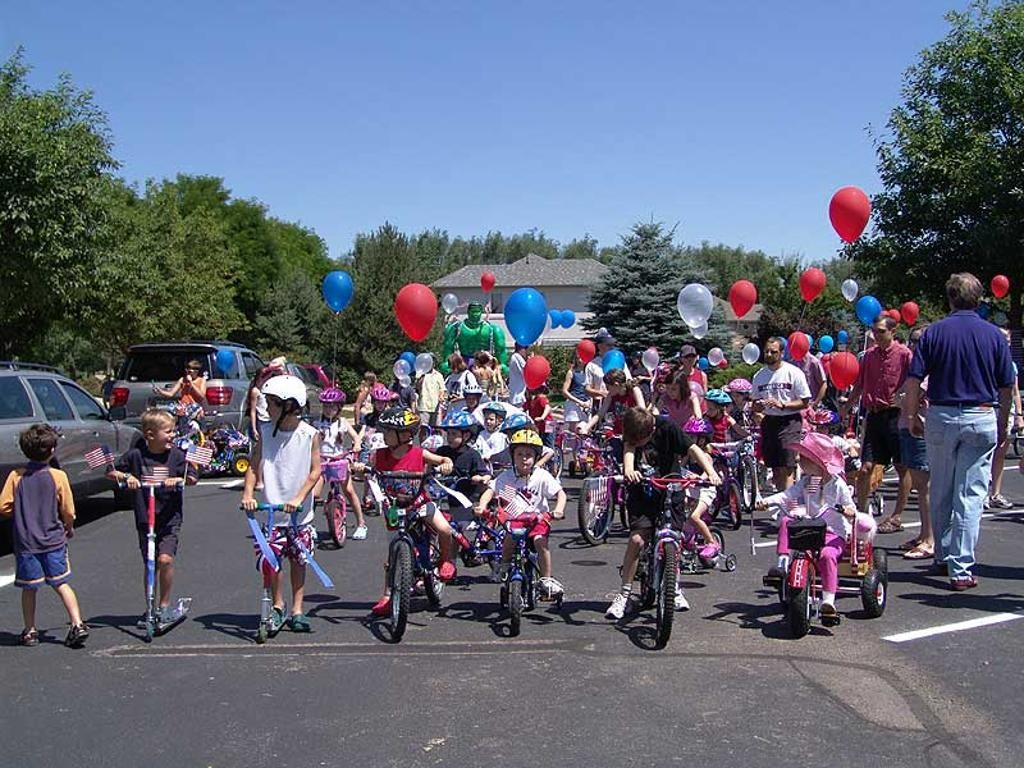human_face: (266, 392, 286, 424), (154, 422, 176, 448), (799, 451, 821, 475), (514, 445, 534, 471), (630, 426, 652, 446), (383, 424, 403, 444), (446, 424, 464, 446), (873, 321, 889, 343), (764, 342, 780, 362), (910, 332, 924, 354), (484, 410, 498, 430), (322, 400, 338, 416), (605, 378, 619, 396), (464, 393, 478, 407), (706, 400, 718, 416), (575, 352, 587, 366), (667, 384, 679, 398), (817, 420, 829, 434), (601, 342, 613, 354), (730, 390, 742, 402), (186, 366, 196, 378), (375, 398, 385, 410), (258, 374, 270, 384), (684, 354, 694, 364), (518, 346, 528, 354), (427, 358, 435, 368), (566, 360, 574, 368), (658, 384, 666, 392), (569, 421, 577, 429), (754, 418, 762, 426), (365, 376, 371, 384), (632, 356, 638, 362)
